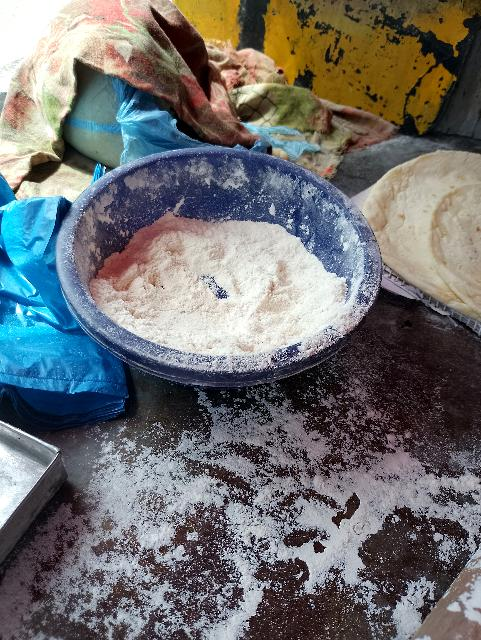hardplastic: (47, 150, 377, 366)
